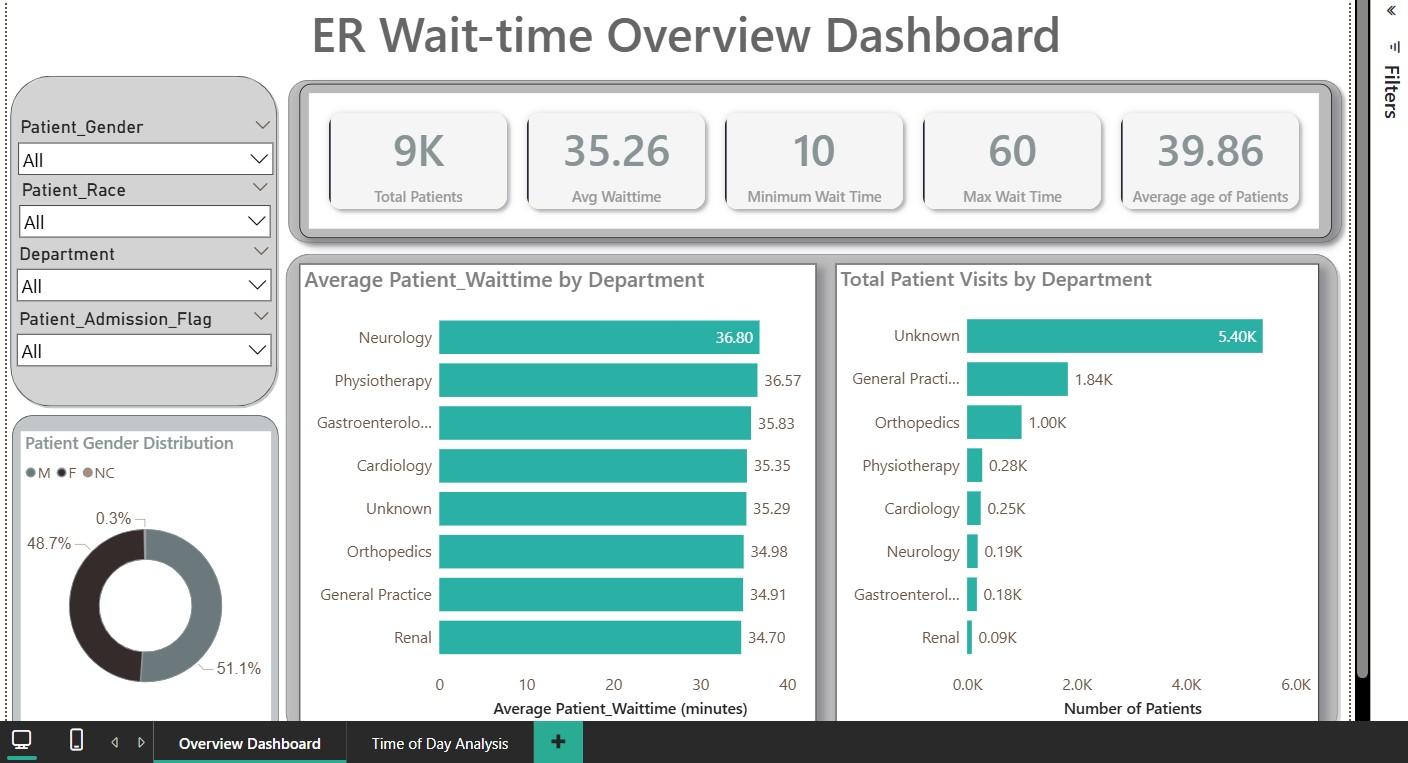

The dashboard page shown, as its layout file describes it:
{"tool":"powerbi","page":{"name":"Overview Dashboard","canvas":[1600,900],"ordinal":0},"visuals":[{"type":"shape","box":[6,494,318,390],"z":0},{"type":"shape","box":[326,86,1274,212],"z":1000},{"type":"shape","box":[326,296,1266,588],"z":2000},{"type":"cardVisual","fields":{"Data":["Hospital ER_Data.Total Patients","Hospital ER_Data.Avg Waittime(Min)","Hospital ER_Data.Minimum Wait Time(Min)","Hospital ER_Data.Max Wait Time(Min)","Hospital ER_Data.Average age of Patients"]},"box":[348,100,1230,184],"z":3000},{"type":"clusteredBarChart","title":"Average Patient_Waittime by Department","fields":{"Category":["Hospital ER_Data.Department_Referral"],"Y":["Avg(Hospital ER_Data.Patient_Waittime)"]},"box":[348,314,616,548],"z":4000},{"type":"clusteredBarChart","title":"Total Patient Visits by Department","fields":{"Category":["Hospital ER_Data.Department_Referral"],"Y":["CountNonNull(Hospital ER_Data.Patient_Id)"]},"box":[988,314,576,548],"z":5000},{"type":"textbox","title":"ER Wait-time Overview Dashboard","box":[20,0,1580,76],"z":6000},{"type":"group","id":"g1","title":"Slicer Pane","box":[0,86,328,402],"z":7000},{"type":"shape","box":[0,86,326,402],"z":7750,"group":"g1"},{"type":"slicer","fields":{"Values":["Hospital ER_Data.Patient_Gender"]},"box":[3.6,134.4,324,74],"z":8000,"group":"g1"},{"type":"donutChart","title":"Patient Gender Distribution","fields":{"Category":["Hospital ER_Data.Patient_Gender"],"Y":["CountNonNull(Hospital ER_Data.Patient_Id)"]},"box":[16,514,298,354],"z":8000},{"type":"slicer","fields":{"Values":["Hospital ER_Data.Patient_Race"]},"box":[5,208.1,319.6,95],"z":9000,"group":"g1"},{"type":"slicer","fields":{"Values":["Hospital ER_Data.Department_Referral"]},"box":[2,284.4,323.6,78],"z":10000,"group":"g1"},{"type":"slicer","fields":{"Values":["Hospital ER_Data.Patient_Admission_Flag"]},"box":[2,362.4,323.6,82],"z":11000,"group":"g1"}]}

Visuals, with their boxes on the page's 1600x900 design canvas (x1, y1, x2, y2). These are canvas units, not pixel positions in the 1408x763 screenshot, which may show the page scaled, cropped or inside an application window:
shape: 6/494/324/884
shape: 326/86/1600/298
shape: 326/296/1592/884
cardVisual - Hospital ER_Data.Total Patients x Hospital ER_Data.Avg Waittime(Min): 348/100/1578/284
"Average Patient_Waittime by Department" clusteredBarChart: 348/314/964/862
"Total Patient Visits by Department" clusteredBarChart: 988/314/1564/862
"ER Wait-time Overview Dashboard" textbox: 20/0/1600/76
"Slicer Pane" group: 0/86/328/488
shape: 0/86/326/488
slicer - Hospital ER_Data.Patient_Gender: 4/134/328/208
"Patient Gender Distribution" donutChart: 16/514/314/868
slicer - Hospital ER_Data.Patient_Race: 5/208/325/303
slicer - Hospital ER_Data.Department_Referral: 2/284/326/362
slicer - Hospital ER_Data.Patient_Admission_Flag: 2/362/326/444
